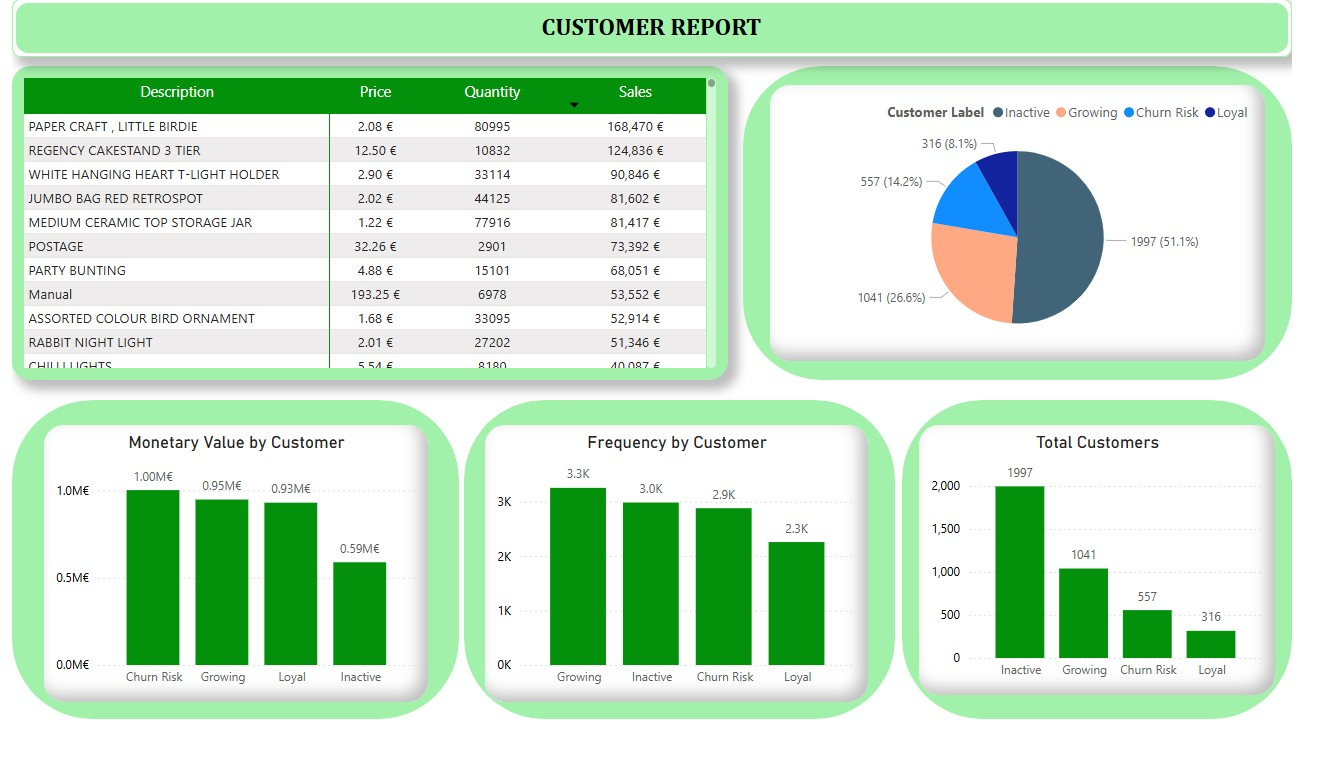

What the dashboard file says about the page in this screenshot:
{"tool":"powerbi","page":{"name":"Page 2","canvas":[1280,720],"ordinal":1},"visuals":[{"type":"pivotTable","fields":{"Rows":["output.Description"],"Values":["Avg(output.Price)","Sum(output.Quantity)","Sum(output.SalesLineTotal)"]},"box":[0,66.9,716.4,313.8],"z":0},{"type":"shape","box":[731.4,66.9,548.6,313.8],"z":1000},{"type":"pieChart","title":"Total Sales by Month","fields":{"Category":["final_data_rfm2.Simplified Cluster Label"],"Y":["CountNonNull(final_data_rfm2.Simplified Cluster Label)"]},"box":[757.4,84.9,496.6,277.8],"z":2000},{"type":"shape","box":[0,0,1280,58],"z":3000},{"type":"textbox","box":[0,8,1280,50],"z":4000},{"type":"shape","box":[0,400.7,446.7,319.8],"z":5000},{"type":"columnChart","title":"Monetary Value by Customer","fields":{"Category":["final_data_rfm2.Simplified Cluster Label"],"Y":["Sum(final_data_rfm2.MonetaryValue)"]},"box":[31,424.7,385.7,279.8],"z":6000},{"type":"shape","box":[451.6,400.7,431.7,319.8],"z":7000},{"type":"columnChart","title":"Frequency by Customer","fields":{"Category":["final_data_rfm2.Simplified Cluster Label"],"Y":["Sum(final_data_rfm2.Frequency)"]},"box":[471.6,424.7,385.7,279.8],"z":8000},{"type":"shape","box":[890.3,400.7,389.7,319.8],"z":9000},{"type":"columnChart","title":"Total Customers","fields":{"Category":["final_data_rfm2.Simplified Cluster Label"],"Y":["CountNonNull(final_data_rfm2.Customer ID)"]},"box":[906.3,424.7,357.7,272.8],"z":10000}]}

Visuals, with their boxes in screenshot pixels (x1, y1, x2, y2), scaled from the page's 1280x720 canvas onto the 1329x757 screenshot:
pivotTable - output.Description x Avg(output.Price): [x1=0, y1=70, x2=744, y2=400]
shape: [x1=759, y1=70, x2=1328, y2=400]
"Total Sales by Month" pieChart: [x1=786, y1=89, x2=1302, y2=381]
shape: [x1=0, y1=0, x2=1328, y2=61]
textbox: [x1=0, y1=8, x2=1328, y2=61]
shape: [x1=0, y1=421, x2=464, y2=756]
"Monetary Value by Customer" columnChart: [x1=32, y1=447, x2=433, y2=741]
shape: [x1=469, y1=421, x2=917, y2=756]
"Frequency by Customer" columnChart: [x1=490, y1=447, x2=890, y2=741]
shape: [x1=924, y1=421, x2=1328, y2=756]
"Total Customers" columnChart: [x1=941, y1=447, x2=1312, y2=733]
